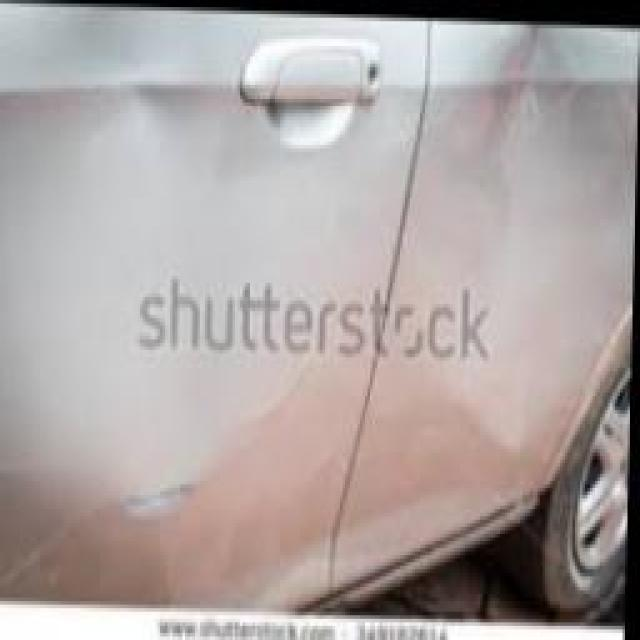Door: (55, 57, 331, 585), (472, 18, 628, 154)
